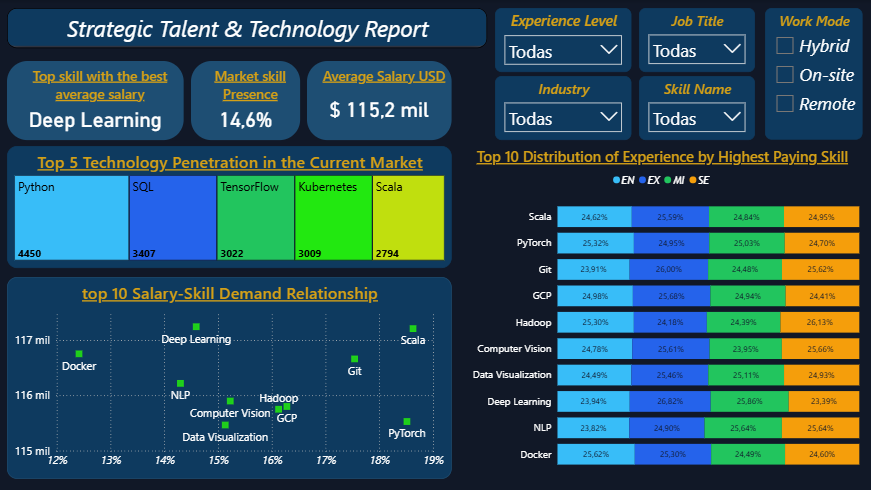

What the dashboard file says about the page in this screenshot:
{"tool":"powerbi","page":{"name":"Strategic talent and technology report","canvas":[1280,720],"ordinal":1},"visuals":[{"type":"textbox","title":"Strategic Talent & Technology Report","box":[11.8,11.8,703.8,58.8],"z":0},{"type":"slicer","title":"Experience Level","fields":{"Values":["ai_job_analitics v_habilidades_detalle.experience_level"]},"box":[727.3,11.8,199.9,94.1],"z":1000},{"type":"slicer","title":"Industry","fields":{"Values":["ai_job_analitics v_habilidades_detalle.industry"]},"box":[727.3,110.9,199.9,94.1],"z":2000},{"type":"slicer","title":"Job Title","fields":{"Values":["ai_job_analitics v_analisis_general.job_title"]},"box":[939,11.8,169.7,94.1],"z":3000},{"type":"slicer","title":"Work Mode","fields":{"Values":["ai_job_analitics v_analisis_general.Work Mode"]},"box":[1123.8,11.8,142.8,193.2],"z":4000},{"type":"card","title":"Top skill with the best average salary","fields":{"Values":["ai_job_analitics v_habilidades_detalle.Top Skill Name"]},"box":[11.8,89,258.7,115.9],"z":5000},{"type":"slicer","title":"Skill Name","fields":{"Values":["ai_job_analitics v_habilidades_detalle.skill_name"]},"box":[939,110.9,169.7,94.1],"z":6000},{"type":"card","title":"Market skill Presence","fields":{"Values":["ai_job_analitics v_habilidades_detalle.Market Presence %"]},"box":[282.2,89,159.6,115.9],"z":7000},{"type":"card","title":"Average Salary USD","fields":{"Values":["ai_job_analitics v_habilidades_detalle.Avg Salary USD"]},"box":[451.9,89,211.7,115.9],"z":8000},{"type":"scatterChart","title":"top 10 Salary-Skill Demand Relationship","fields":{"Category":["ai_job_analitics v_habilidades_detalle.skill_name"],"Y":["ai_job_analitics v_habilidades_detalle.Avg Salary USD"],"X":["ai_job_analitics v_habilidades_detalle.Market Presence %"]},"box":[11.8,406.5,651.8,295.6],"z":9000},{"type":"treemap","title":"Top 5 Technology Penetration in the Current Market","fields":{"Group":["ai_job_analitics v_habilidades_detalle.skill_name"],"Values":["Count(ai_job_analitics v_habilidades_detalle.job_id)"]},"box":[11.5,214.6,652.3,178.6],"z":9001},{"type":"hundredPercentStackedBarChart","title":"Top 10 Distribution of Experience by Highest Paying Skill","fields":{"Category":["ai_job_analitics v_habilidades_detalle.skill_name"],"Y":["Count(ai_job_analitics v_habilidades_detalle.job_id)"],"Series":["ai_job_analitics v_habilidades_detalle.experience_level"]},"box":[663.8,214.6,601.9,488.2],"z":9002}]}

Visuals, with their boxes in screenshot pixels (x1, y1, x2, y2), scaled from the page's 1280x720 canvas onto the 871x490 screenshot:
"Strategic Talent & Technology Report" textbox: <bbox>8, 8, 487, 48</bbox>
"Experience Level" slicer: <bbox>495, 8, 631, 72</bbox>
"Industry" slicer: <bbox>495, 75, 631, 140</bbox>
"Job Title" slicer: <bbox>639, 8, 754, 72</bbox>
"Work Mode" slicer: <bbox>765, 8, 862, 140</bbox>
"Top skill with the best average salary" card: <bbox>8, 61, 184, 139</bbox>
"Skill Name" slicer: <bbox>639, 75, 754, 140</bbox>
"Market skill Presence" card: <bbox>192, 61, 301, 139</bbox>
"Average Salary USD" card: <bbox>308, 61, 452, 139</bbox>
"top 10 Salary-Skill Demand Relationship" scatterChart: <bbox>8, 277, 452, 478</bbox>
"Top 5 Technology Penetration in the Current Market" treemap: <bbox>8, 146, 452, 268</bbox>
"Top 10 Distribution of Experience by Highest Paying Skill" hundredPercentStackedBarChart: <bbox>452, 146, 861, 478</bbox>
